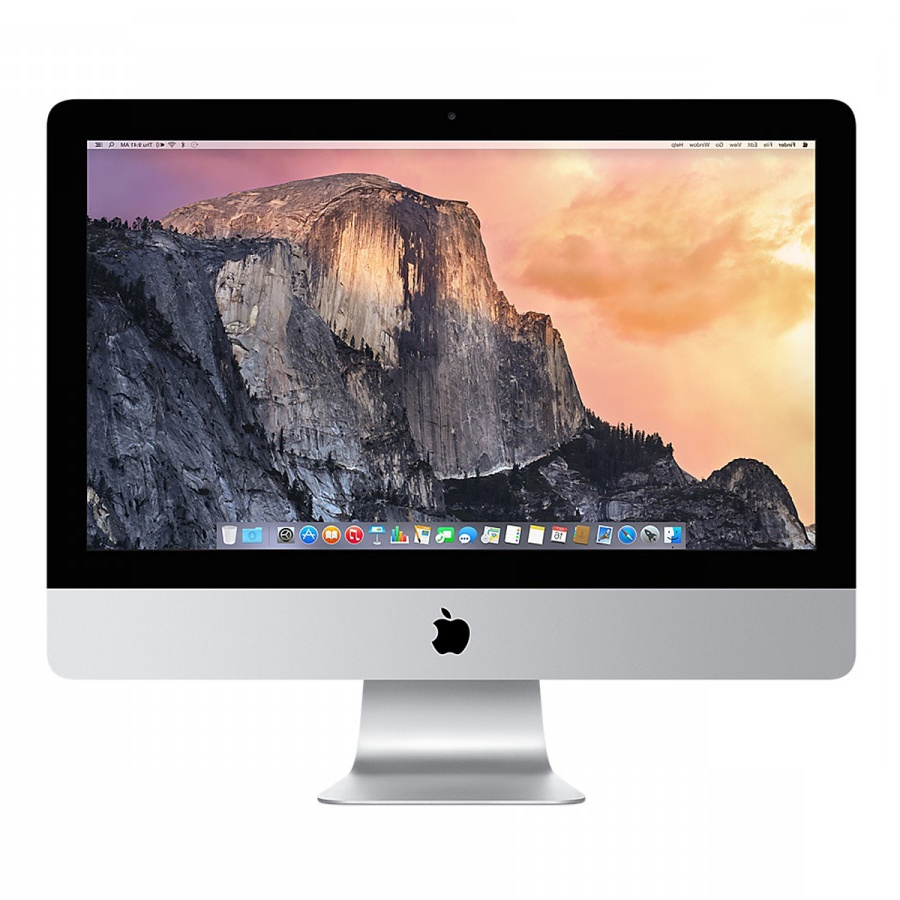Apple: (331, 582, 553, 693)
